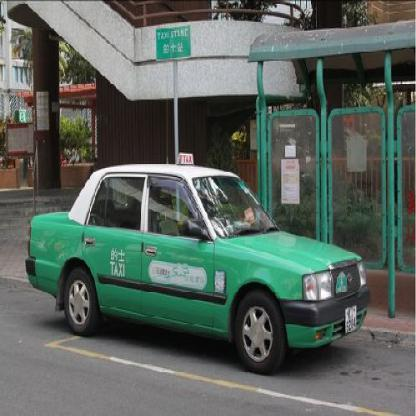taxi: (23, 147, 373, 377)
